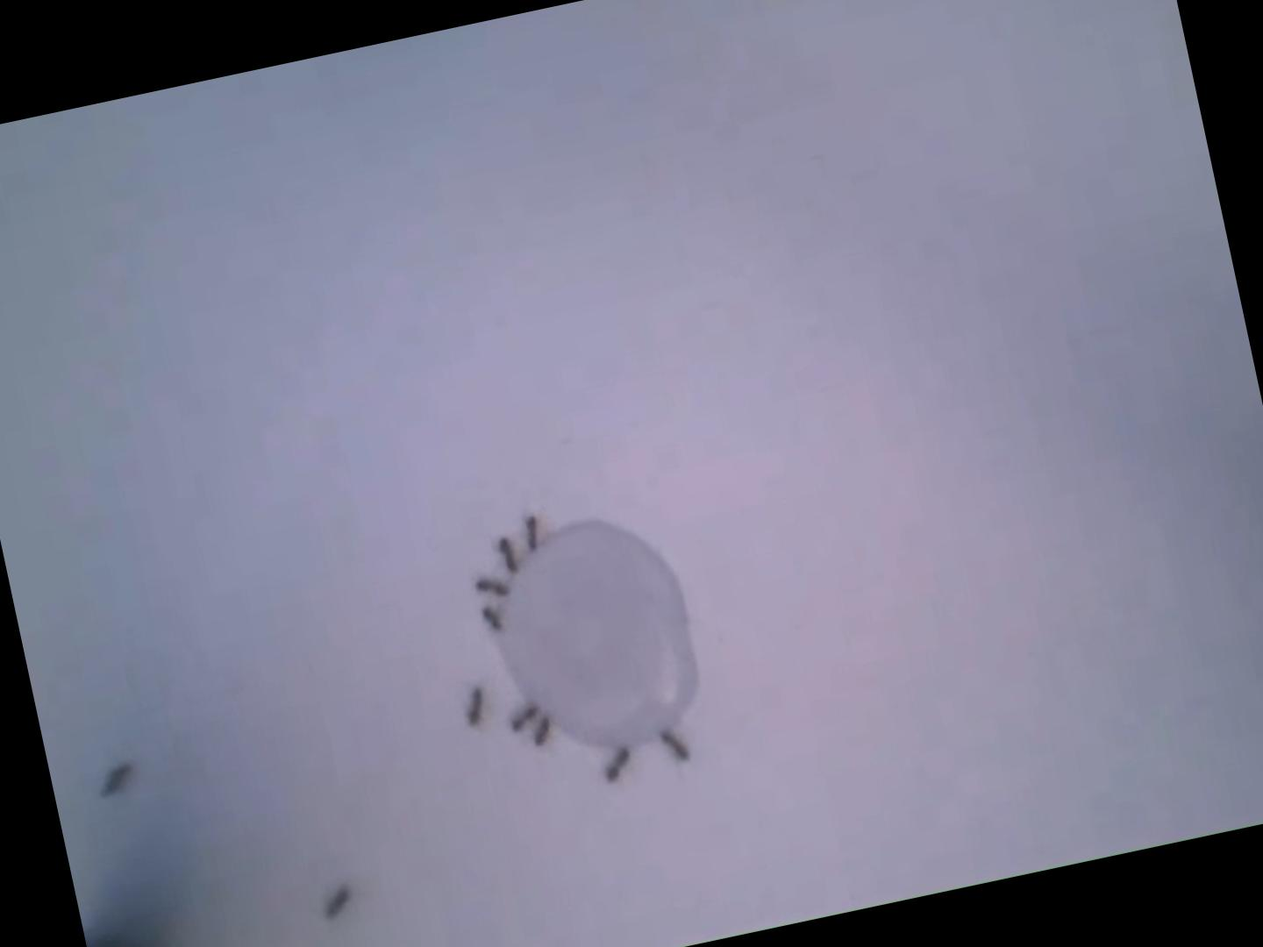Ant: (97, 758, 137, 796), (321, 881, 358, 920), (601, 744, 637, 783), (658, 724, 692, 765), (461, 684, 492, 726), (506, 699, 543, 732), (473, 571, 510, 600), (528, 711, 558, 746), (521, 512, 546, 551), (499, 534, 524, 573), (481, 601, 508, 633)
